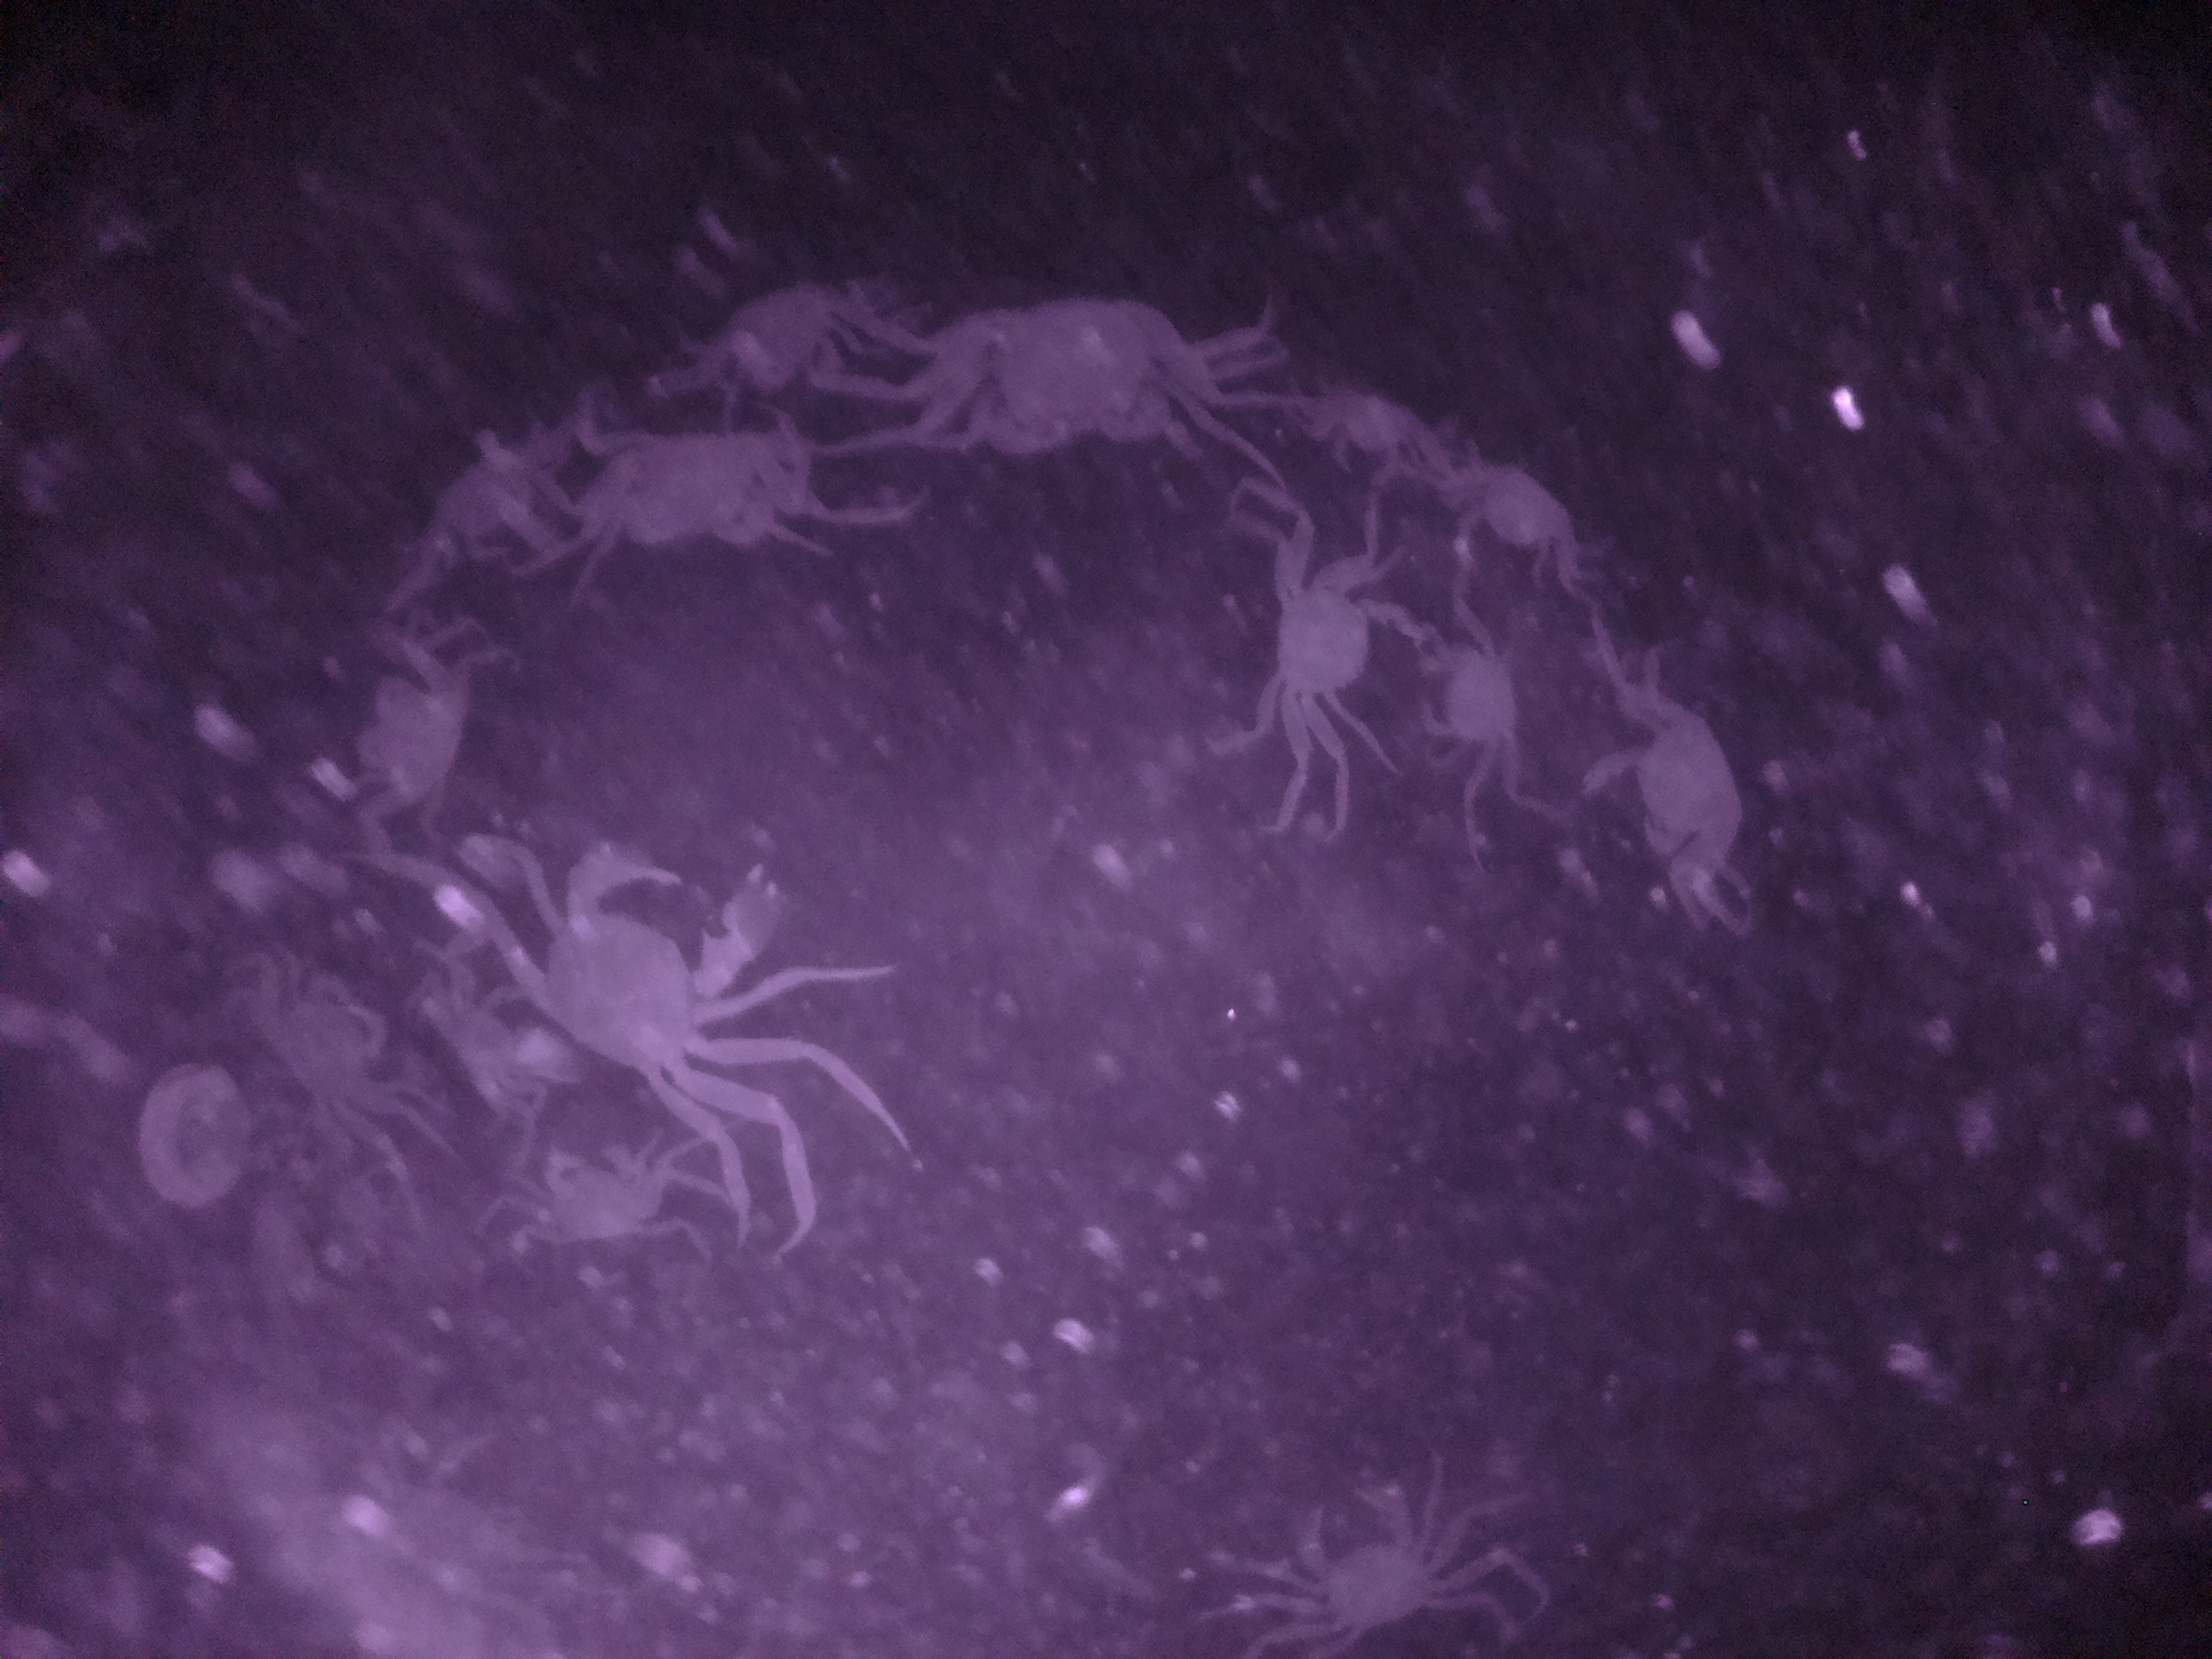Crab: (512, 816, 794, 1121), (899, 274, 1217, 474), (561, 403, 805, 565), (1268, 1467, 1461, 1659), (1581, 688, 1778, 852), (1237, 547, 1404, 714), (1411, 619, 1552, 770)
